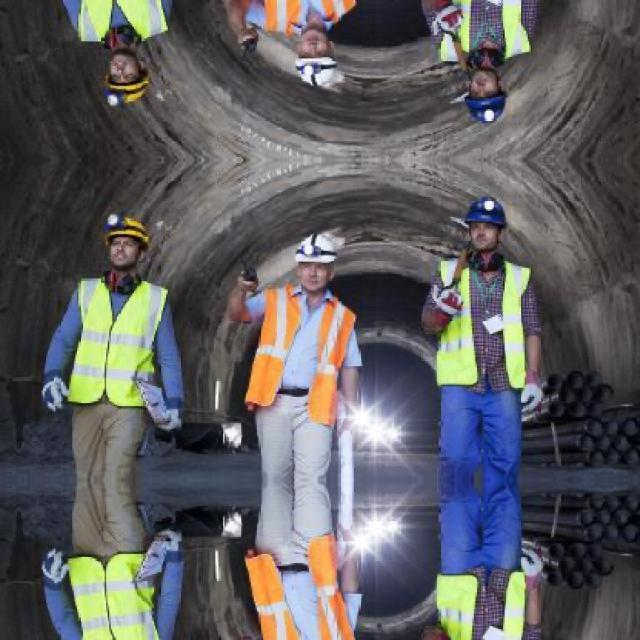Capacete: (104, 71, 149, 106), (104, 214, 149, 247), (295, 57, 340, 86), (465, 196, 506, 227), (295, 233, 336, 263), (465, 93, 505, 122)
Colete: (69, 279, 166, 406), (68, 553, 158, 639), (245, 285, 300, 405), (246, 554, 299, 639), (77, 0, 168, 42), (502, 261, 529, 388), (436, 574, 478, 639), (502, 0, 530, 57), (264, 0, 307, 35)
Oculos: (467, 48, 504, 68), (297, 246, 336, 256)
Pessoa: (227, 233, 360, 639), (422, 197, 541, 639), (42, 214, 182, 491), (42, 530, 182, 639), (422, 0, 537, 122), (63, 0, 172, 105), (224, 0, 355, 86), (421, 547, 542, 639)
